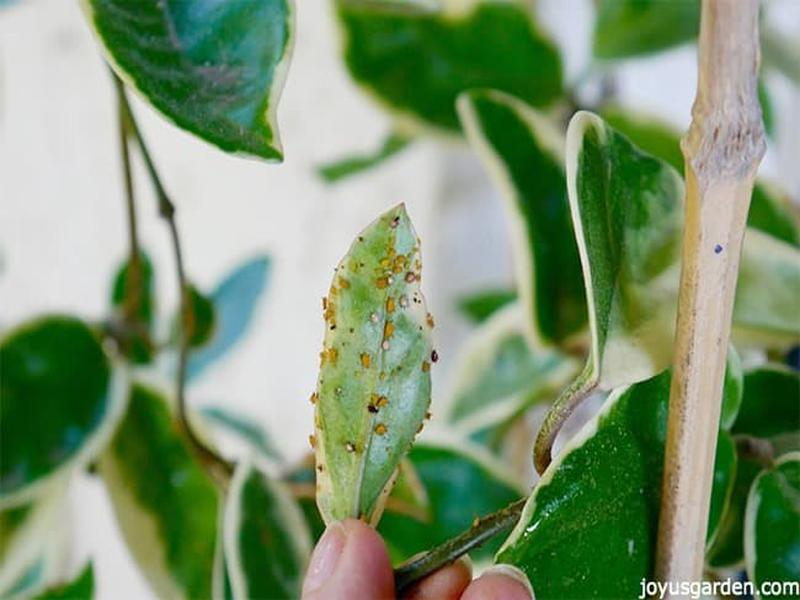Mealy_bug: (289, 200, 438, 524)
